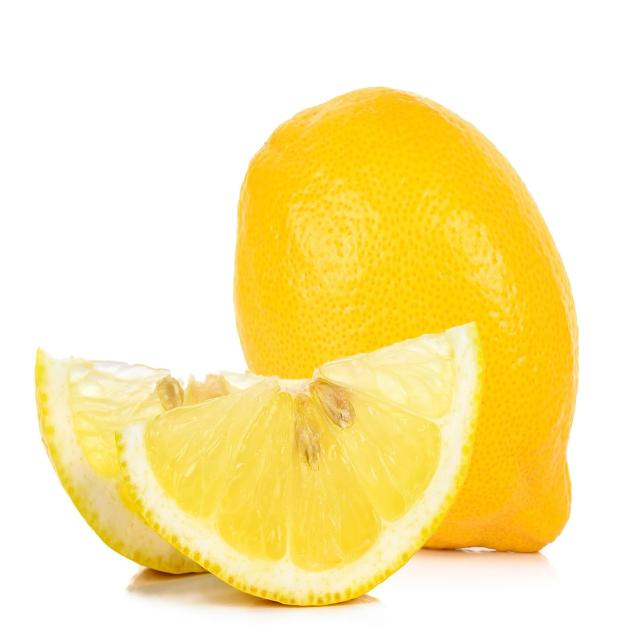lemon: (31, 312, 488, 612)
